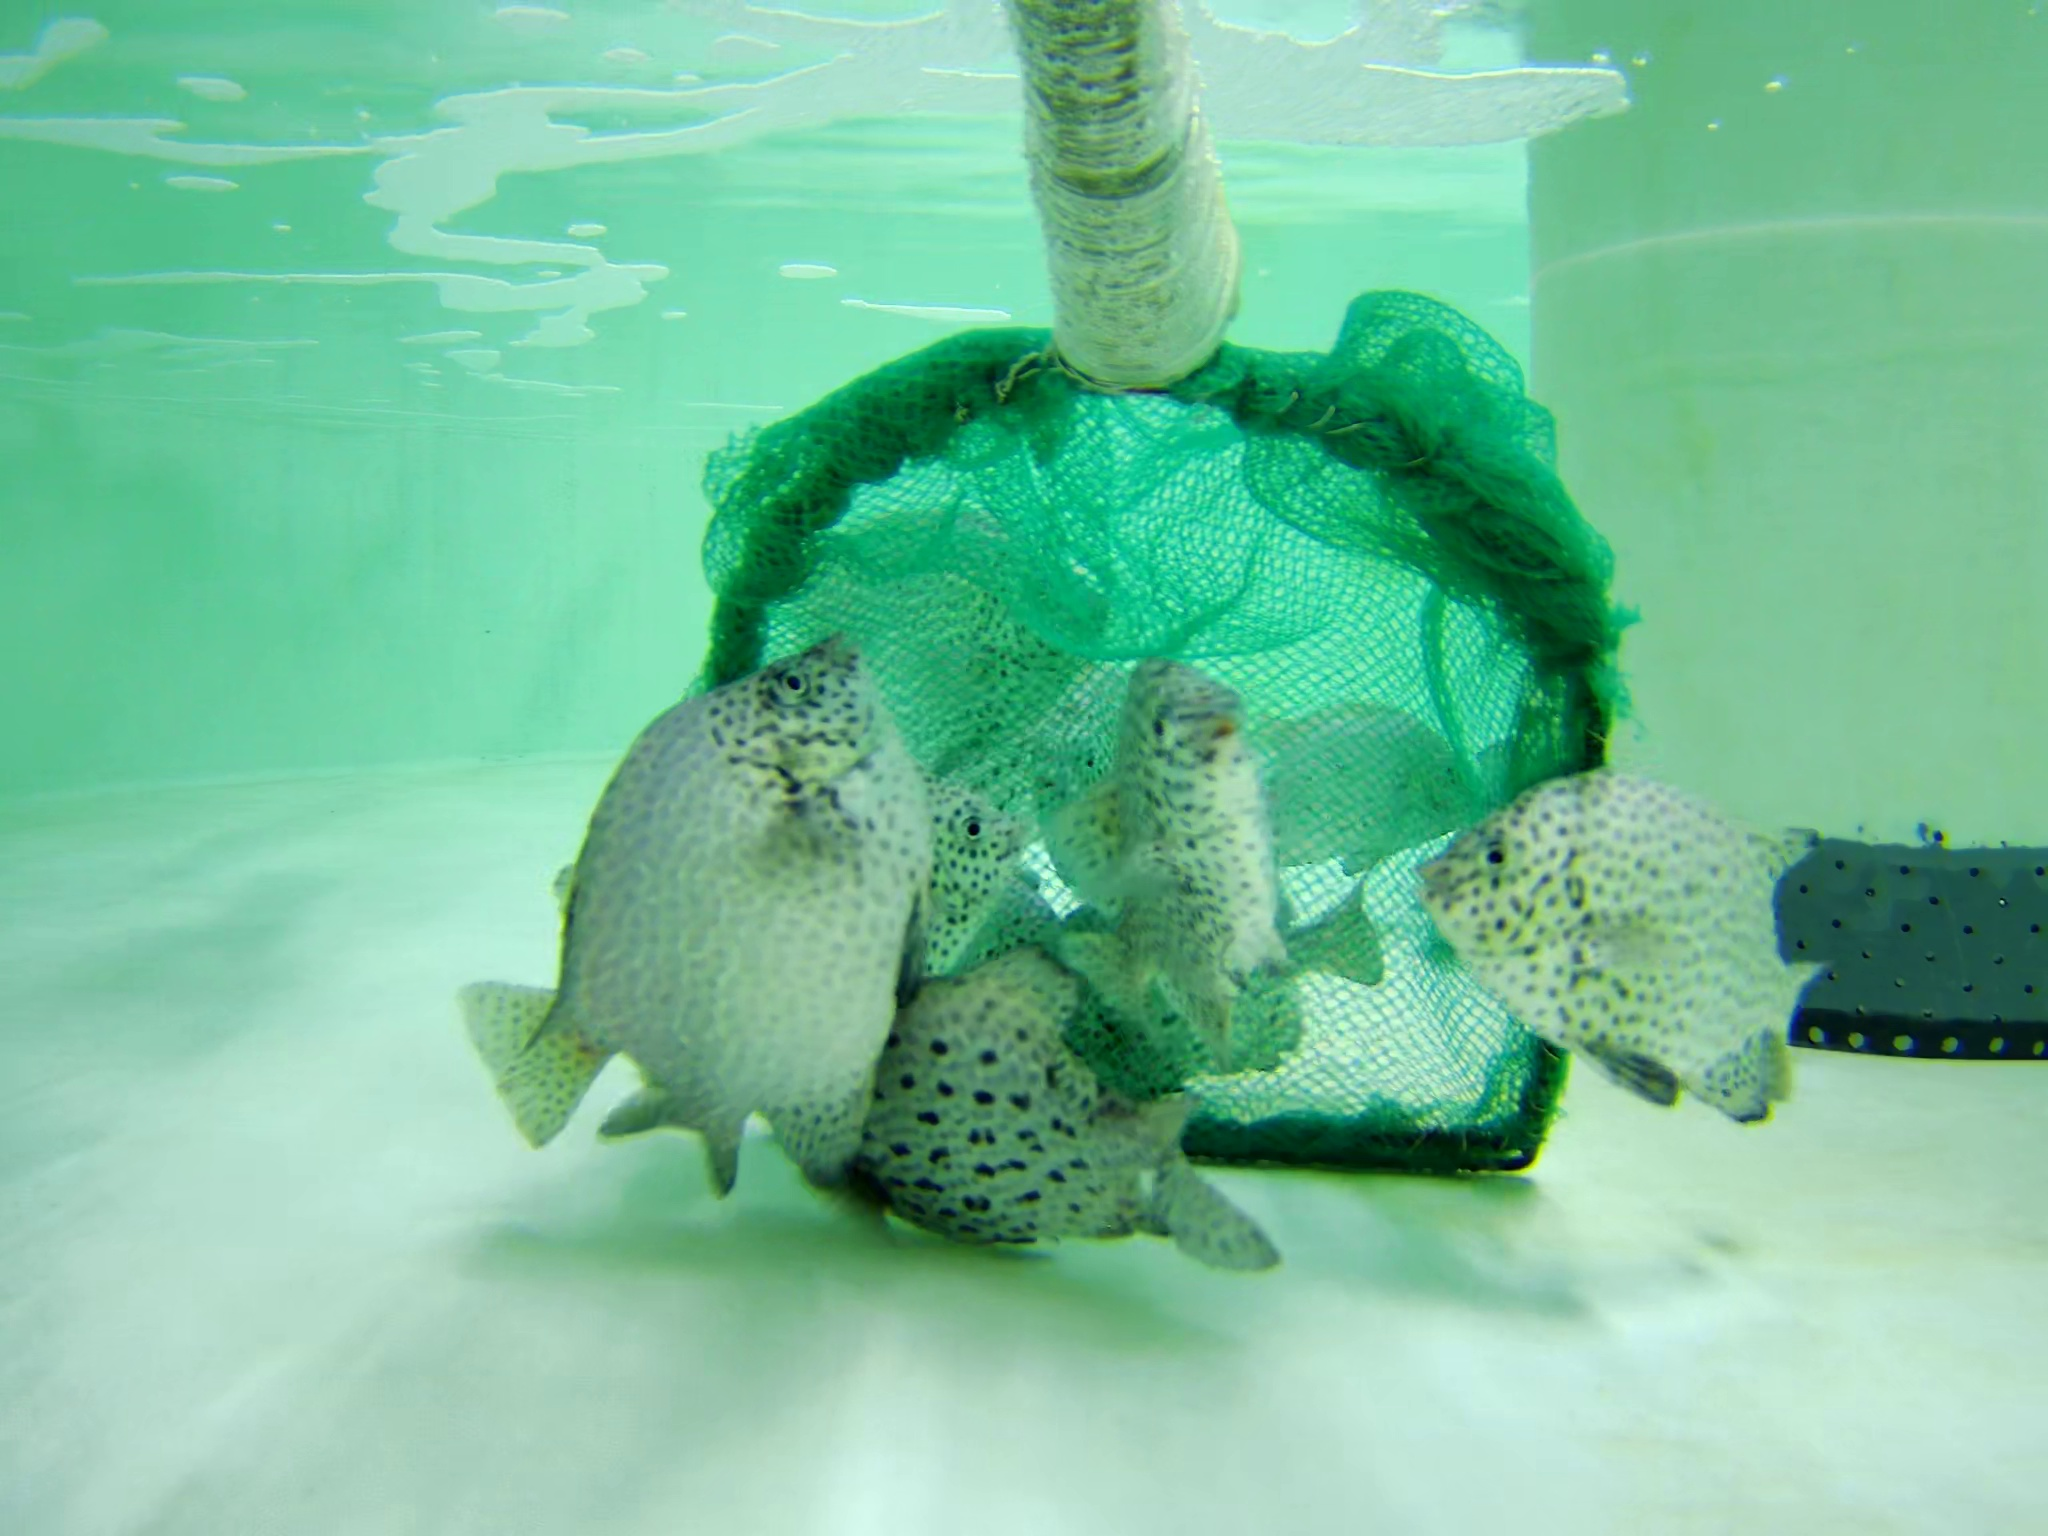fish: (440, 624, 924, 1173), (719, 947, 1258, 1296), (1401, 766, 1808, 1115), (789, 760, 1013, 986), (1219, 691, 1480, 868), (1106, 886, 1393, 1044), (1013, 653, 1140, 883), (1113, 623, 1240, 850)
